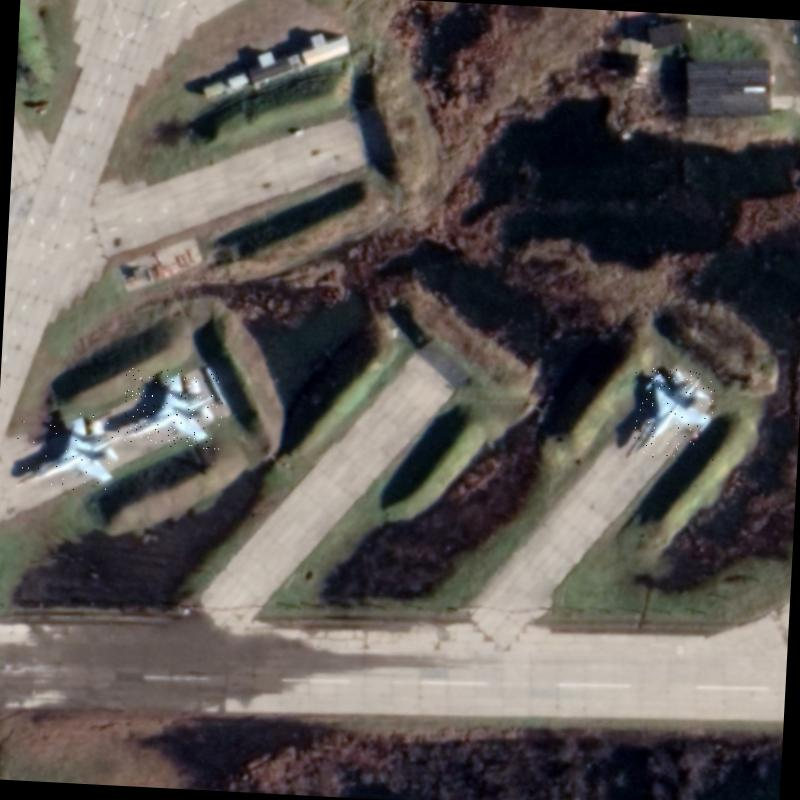A1: (14, 410, 126, 495), (630, 366, 719, 460), (122, 368, 224, 450)
